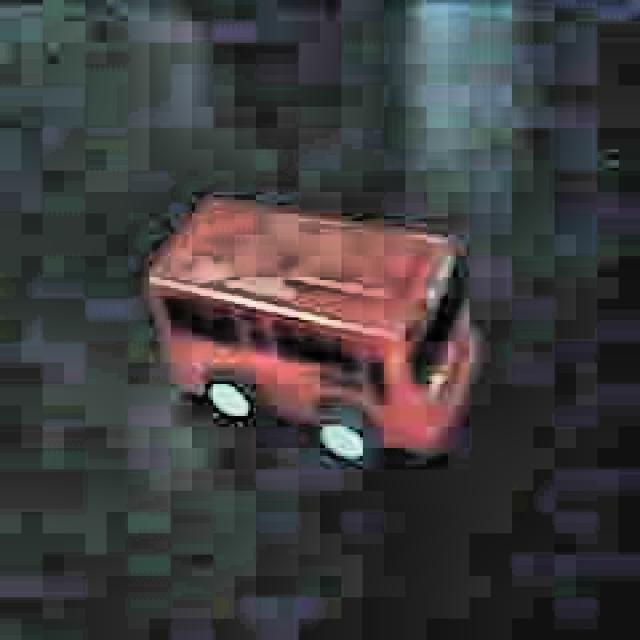bus: (133, 181, 483, 480)
